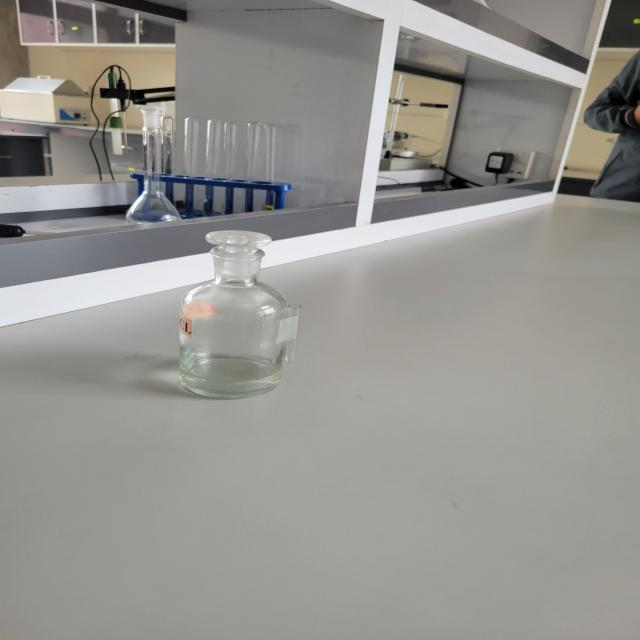Reagent_Bottle: (136, 204, 323, 409)
